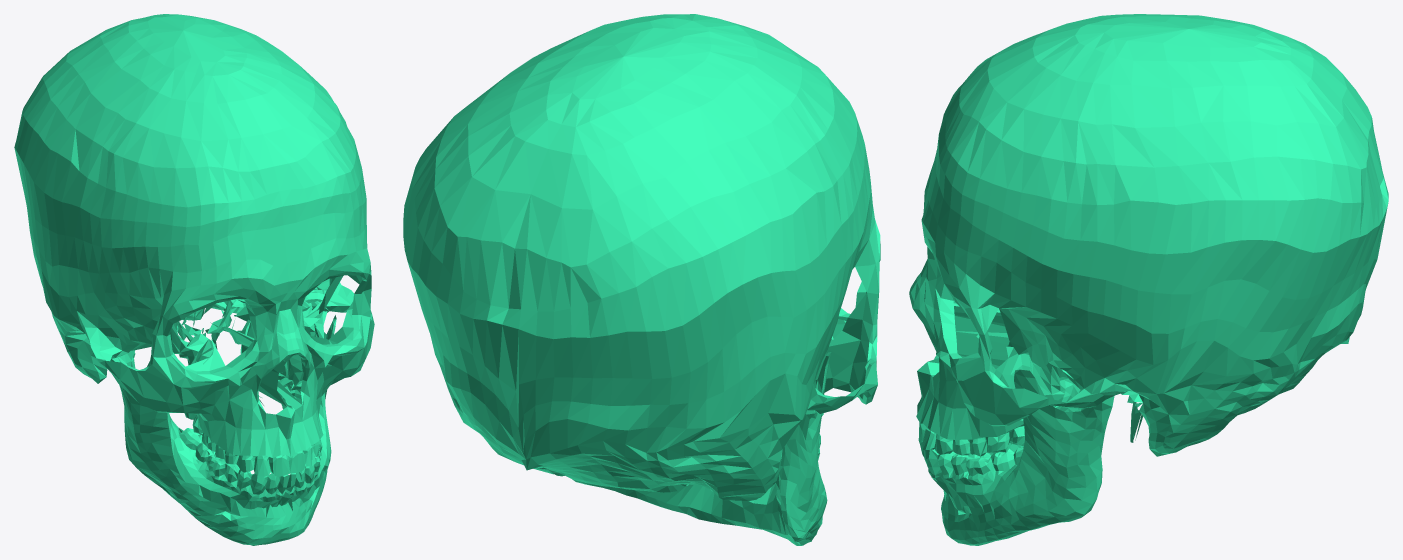
File: skull.dae
3 views of the same model, side by side, from view 1: azimuth 30°, elevation 25°; view 2: azimuth 150°, elevation 25°; view 3: azimuth 270°, elevation 25° (orthographic). The views are drawn at different scales.
Parts seen in each view (by area): view 1: skull, jaw, lteeth, uteeth; view 2: skull, jaw; view 3: skull, jaw, lteeth, uteeth.
Part boxes in pixels (x1,y1,x2,y2): skull: [14, 14, 374, 460]; jaw: [110, 291, 336, 545]; lteeth: [179, 428, 322, 494]; uteeth: [184, 381, 320, 476]; skull: [403, 14, 880, 500]; jaw: [572, 352, 831, 545]; skull: [909, 14, 1388, 456]; jaw: [928, 369, 1114, 545]; lteeth: [919, 443, 1023, 476]; uteeth: [918, 422, 1024, 456].
Bounding box in the file's own units: 12.12 × 17.87 × 15.36.
